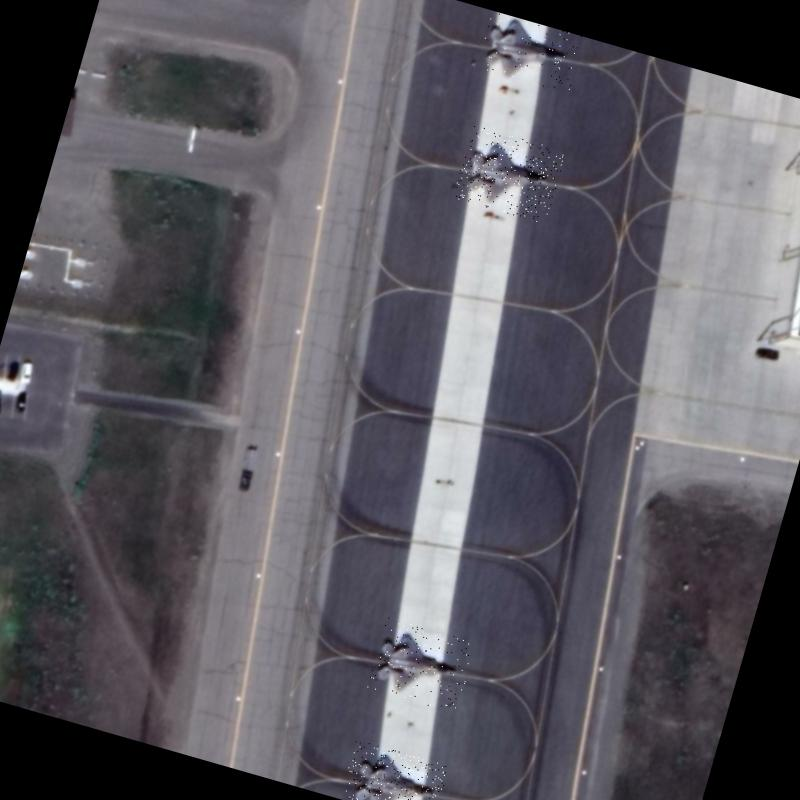A15: (452, 125, 566, 224), (366, 615, 476, 714), (475, 10, 586, 96), (339, 739, 449, 800)
